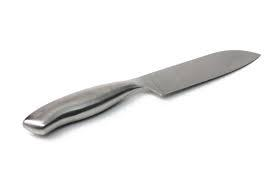Knife: (22, 48, 261, 136)
